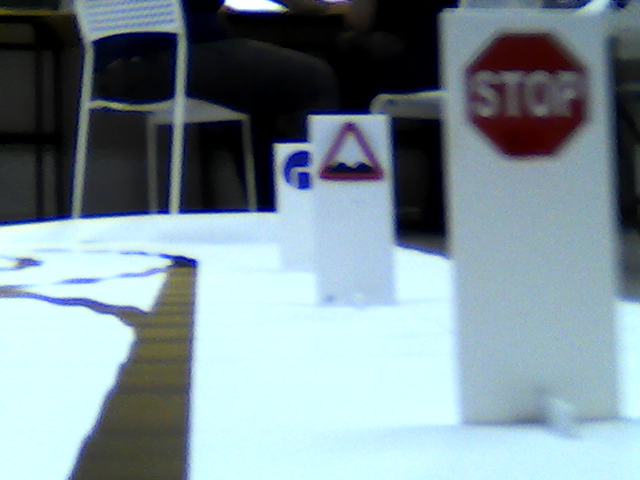Nerov: (315, 121, 387, 181)
Stop: (460, 25, 592, 164)
